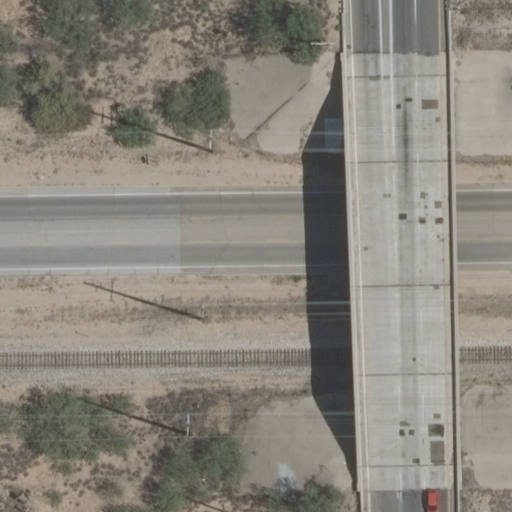DT: (178, 411, 198, 438), (205, 125, 217, 155), (196, 302, 207, 322)
